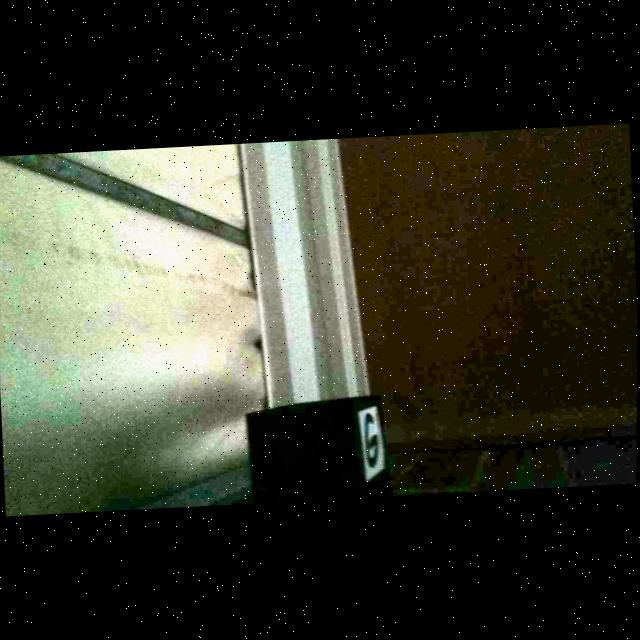G: (366, 414, 381, 467)
